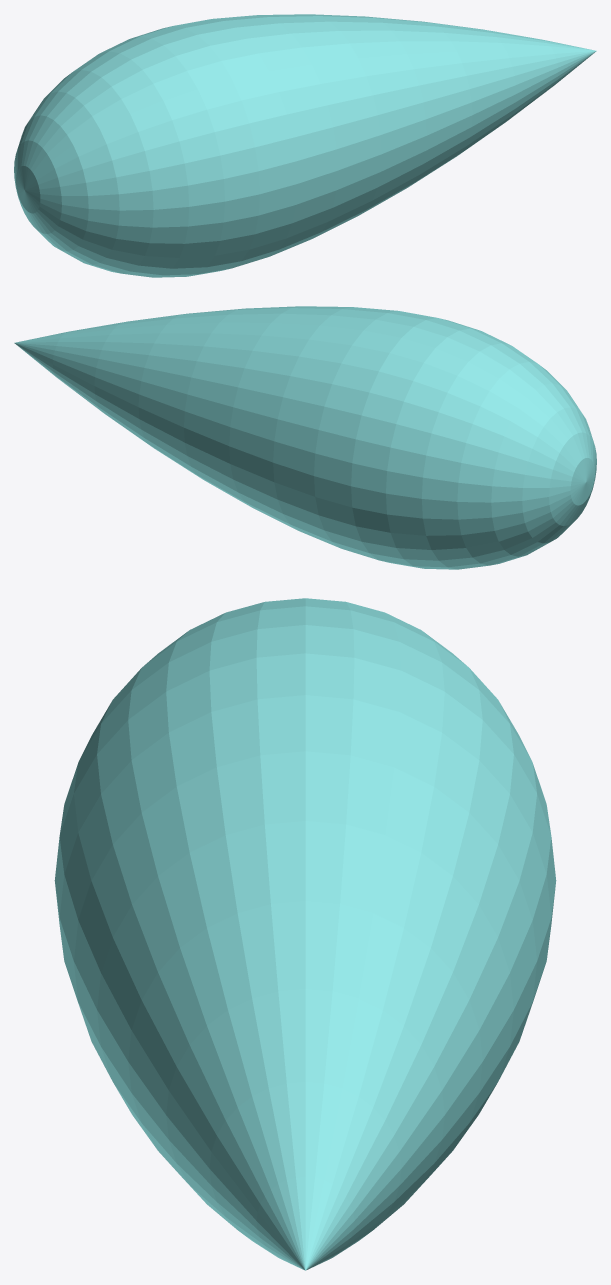
The model's file is SpitBullet.fbx.
3 renders of one model, top to bottom at view 1: azimuth 30°, elevation 25°; view 2: azimuth 150°, elevation 25°; view 3: azimuth 270°, elevation 25°, orthographic. The views are drawn at different scales.
Parts seen in each view (by area): view 1: Split.001; view 2: Split.001; view 3: Split.001.
Boxes of the visible parts, <box> form: Split.001: <box>14,14,596,277</box>; Split.001: <box>14,306,596,569</box>; Split.001: <box>54,598,556,1270</box>.
Size of the model in its own units: 11.07 by 4.2 by 4.2.
